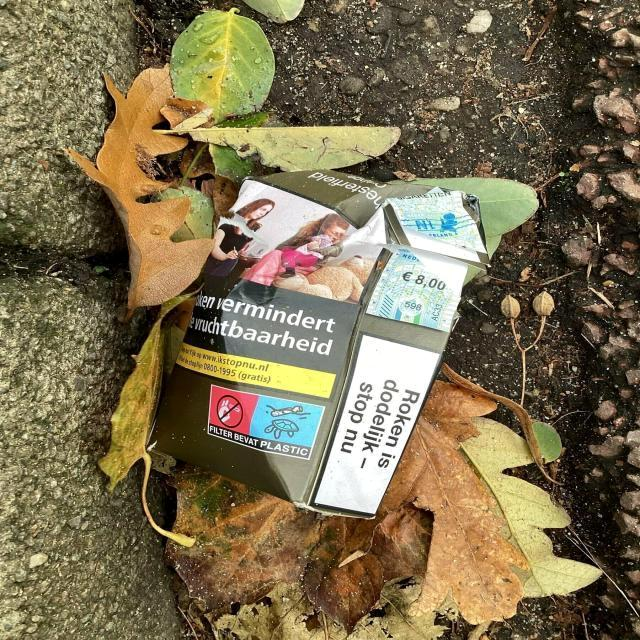Paper: (146, 164, 494, 524)
